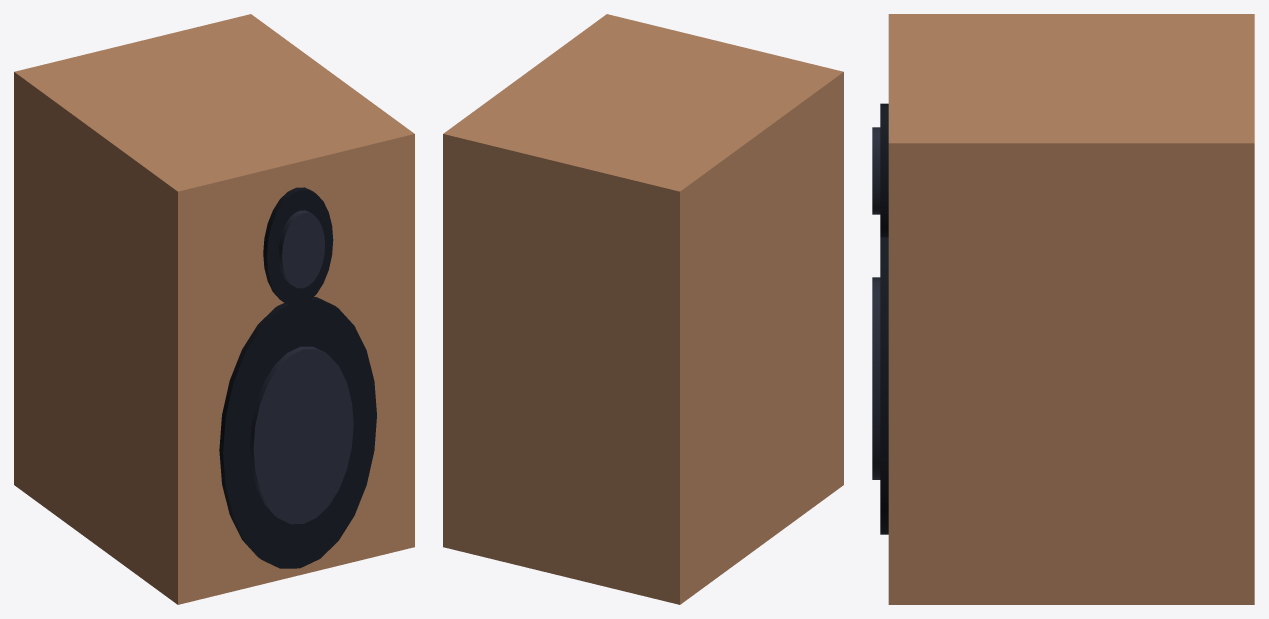
File: speaker.glb
The picture shows the model from 3 angles, left to right: view 1: azimuth 30°, elevation 25°; view 2: azimuth 150°, elevation 25°; view 3: azimuth 270°, elevation 25°; orthographic projection. The views are drawn at different scales.
Visible parts, largest first — view 1: speaker; view 2: speaker; view 3: speaker.
Part boxes in pixels (<box>): speaker: <box>14,14,414,604</box>; speaker: <box>443,14,843,604</box>; speaker: <box>872,14,1254,604</box>.
Bounding box in the file's own units: 12 × 20 × 15.
